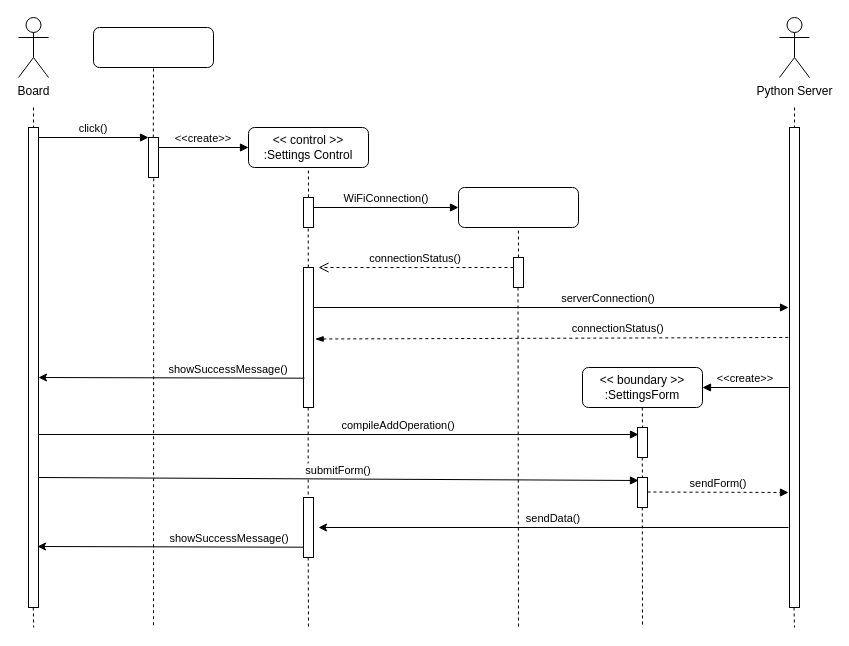
This 849x646 diagram has some shape labels left out. Each missing label, with the centre of its shape:
"<< boundary >> :Fingerprint Sensor" goes at [153,47].
"<< boundary >> :WiFi" goes at [518,207].
